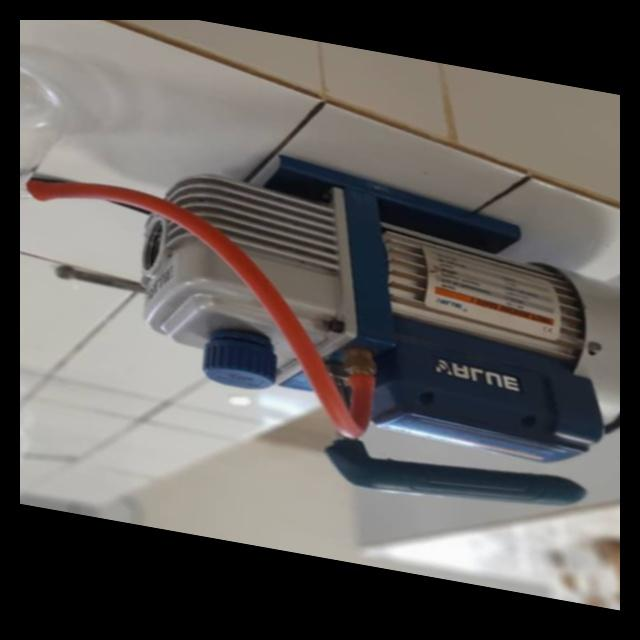Vacuum Pump: (115, 124, 620, 547)
